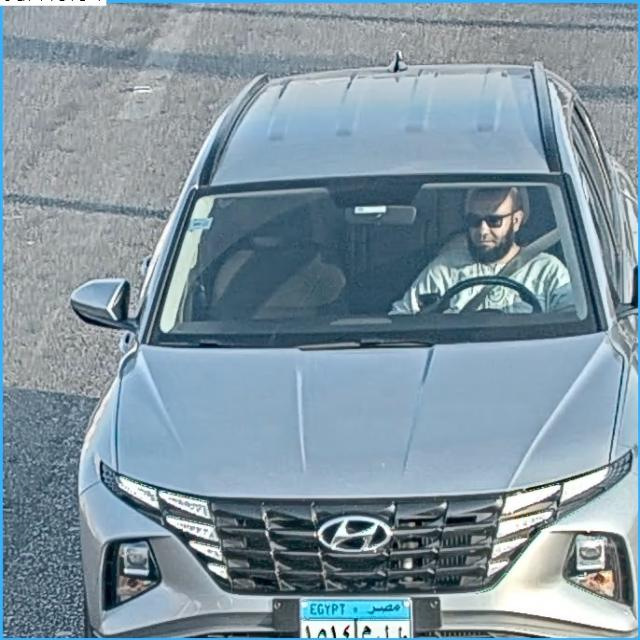windshield: (148, 178, 599, 321)
